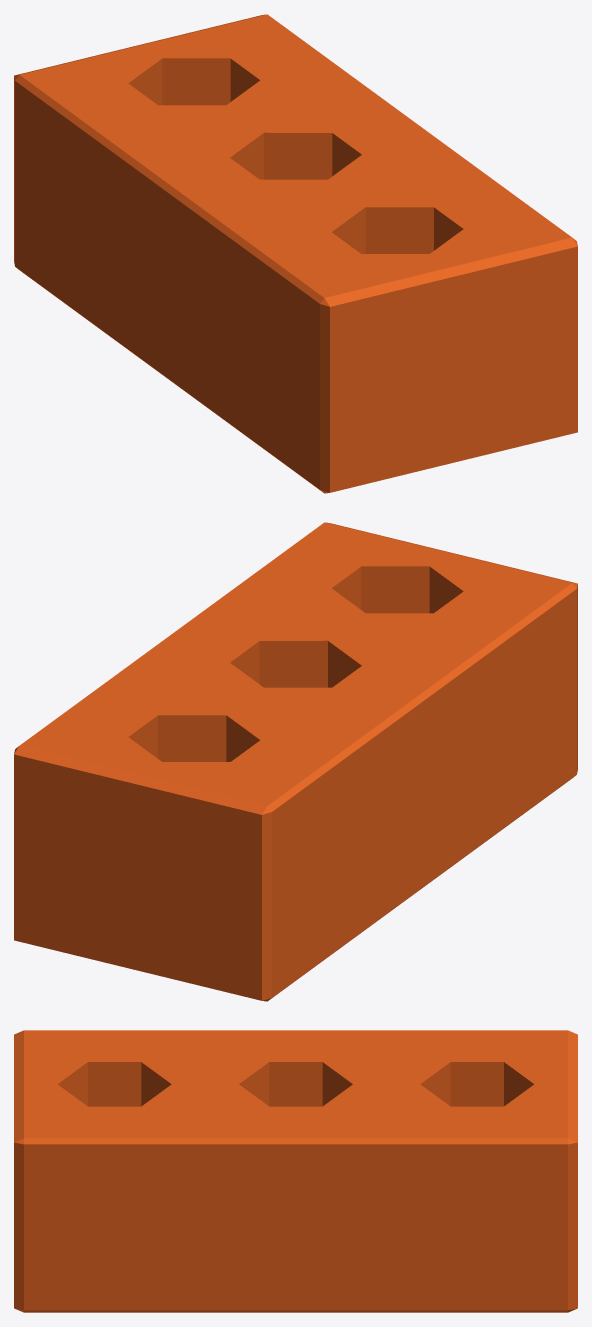
Rendered from Brick.fbx.
The picture shows the model from 3 angles, top to bottom: view 1: azimuth 30°, elevation 25°; view 2: azimuth 150°, elevation 25°; view 3: azimuth 270°, elevation 25°; orthographic projection. The views are drawn at different scales.
Visible parts, largest first — view 1: Brick; view 2: Brick; view 3: Brick.
Part boxes in pixels (<box>): Brick: <box>14,14,577,493</box>; Brick: <box>14,522,577,1001</box>; Brick: <box>14,1030,577,1312</box>.
Bounding box in the file's own units: 84.03 × 61.08 × 179.
